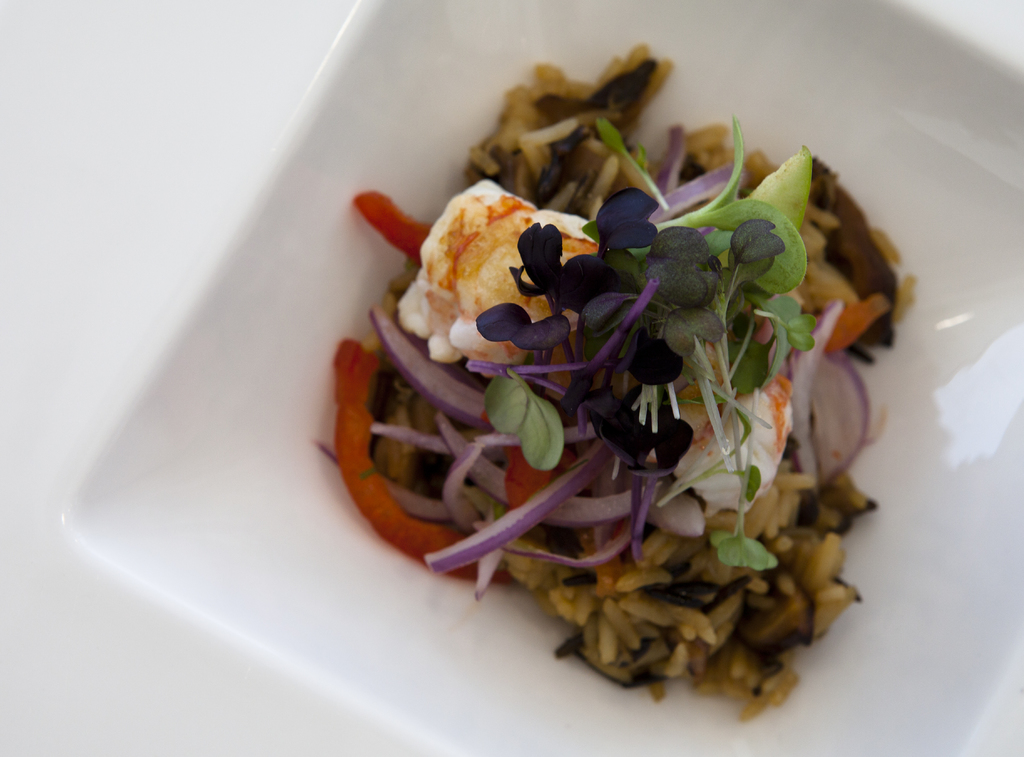salad: (294, 43, 946, 731)
